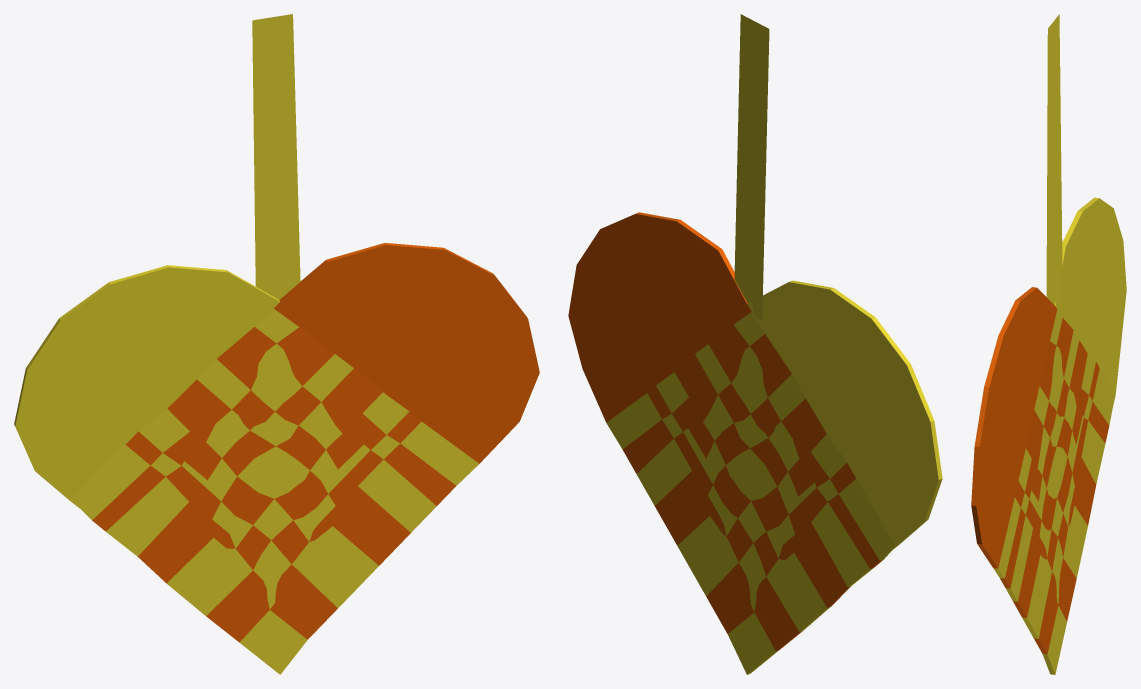
File: heart6.glb
The picture shows the model from 3 angles, left to right: view 1: azimuth 30°, elevation 25°; view 2: azimuth 150°, elevation 25°; view 3: azimuth 270°, elevation 25°; orthographic projection.
Visible parts, largest first — view 1: heart6; view 2: heart6; view 3: heart6.
Part boxes in pixels (left/top/right/bottom): heart6: left=14, top=14, right=539, bottom=674; heart6: left=568, top=14, right=942, bottom=674; heart6: left=971, top=14, right=1126, bottom=674.
Size of the model in its own units: 0.1314 by 0.184 by 0.0398.
